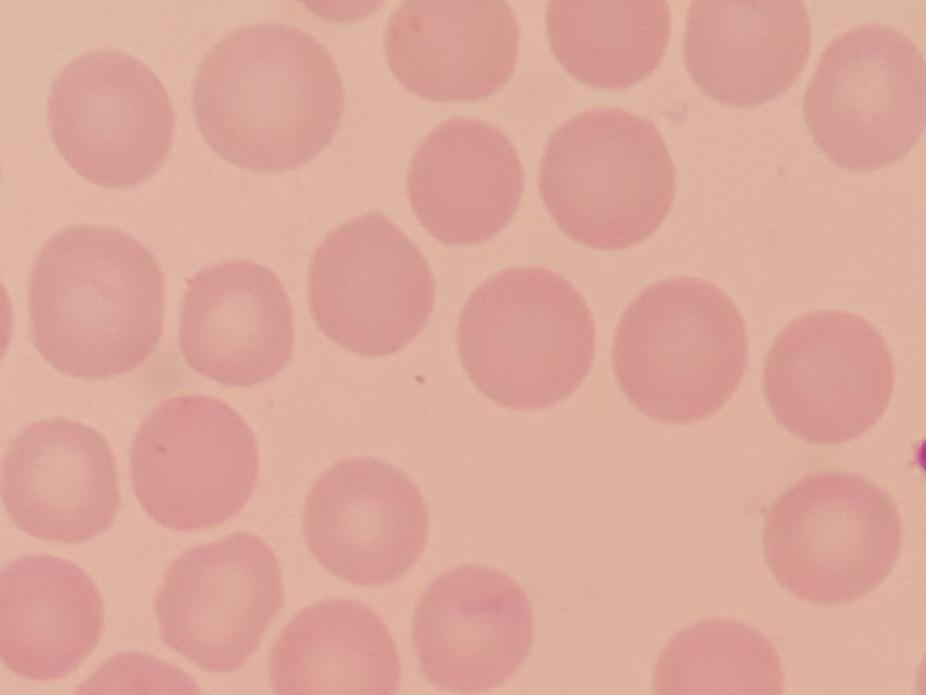Uninfected: (193, 27, 347, 175), (22, 222, 167, 376), (458, 264, 598, 413), (615, 276, 747, 426), (535, 109, 673, 251), (47, 47, 181, 190), (130, 391, 263, 533), (308, 211, 437, 355), (153, 531, 286, 668), (763, 312, 892, 453), (765, 472, 902, 600), (807, 19, 926, 166), (410, 562, 537, 695), (300, 459, 429, 584), (0, 417, 120, 548), (410, 114, 524, 248), (180, 256, 293, 387), (0, 552, 107, 684), (383, 0, 519, 103), (685, 0, 808, 110), (263, 599, 401, 695), (543, 0, 670, 90), (647, 612, 784, 695)
